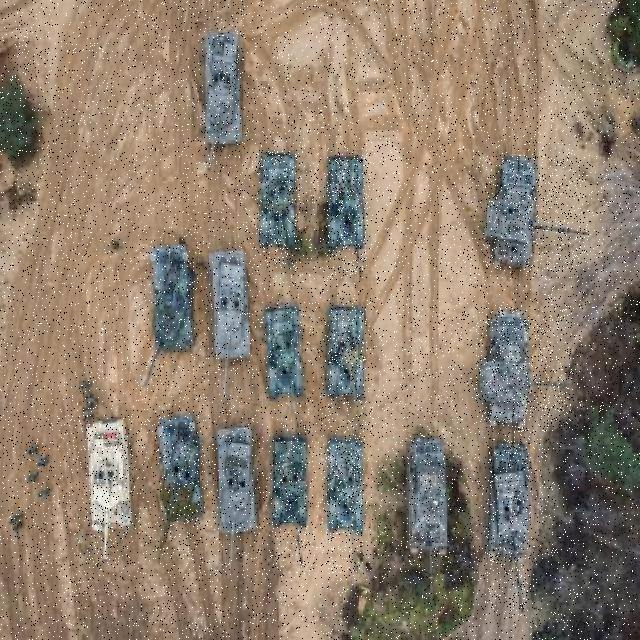MIL_MBT: (476, 307, 571, 432), (486, 157, 588, 272), (485, 438, 532, 616), (139, 244, 194, 390), (155, 411, 205, 567), (85, 417, 132, 568), (408, 436, 448, 610), (216, 423, 257, 573), (211, 250, 250, 400), (203, 32, 241, 171), (326, 150, 367, 278), (257, 150, 300, 269), (326, 438, 362, 576), (328, 305, 365, 429), (271, 434, 305, 568), (268, 300, 303, 430)
